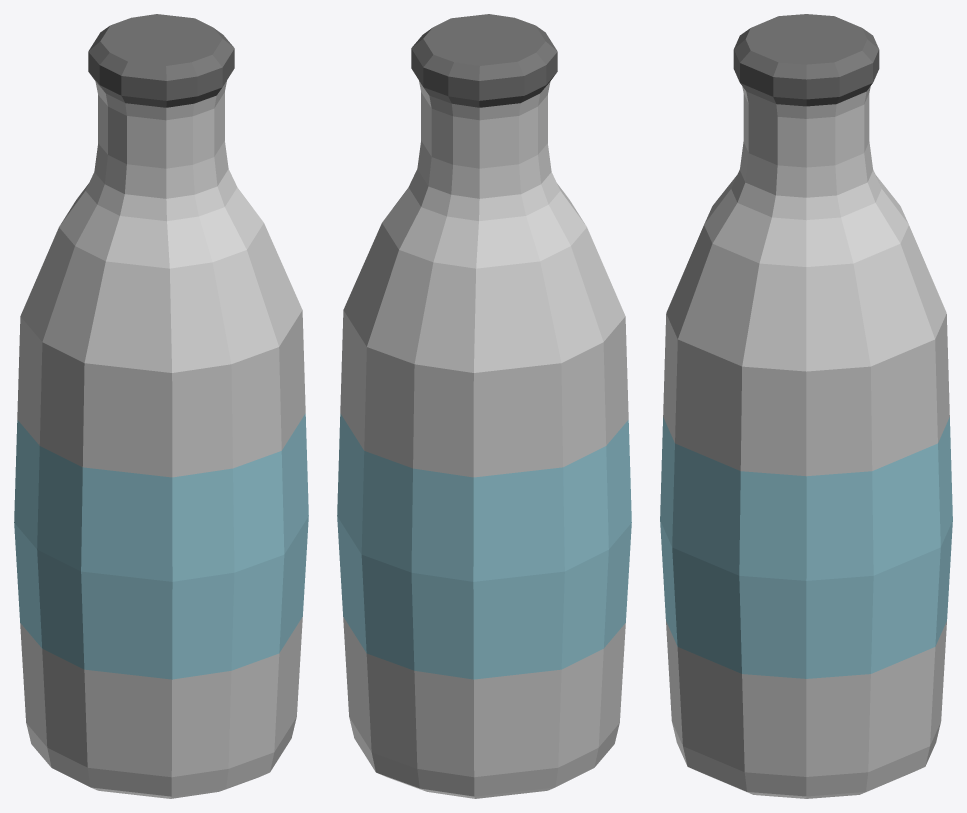
The model's file is milk_bottle.fbx.
3 renders of one model, left to right at view 1: azimuth 30°, elevation 25°; view 2: azimuth 150°, elevation 25°; view 3: azimuth 270°, elevation 25°, orthographic.
Parts seen in each view (by area): view 1: milk; view 2: milk; view 3: milk.
Boxes of the visible parts, x1,y1,x2,y2 form: milk: [14, 14, 308, 798]; milk: [337, 14, 631, 798]; milk: [660, 14, 952, 798].
Size of the model in its own units: 78.47 by 214 by 79.77.
